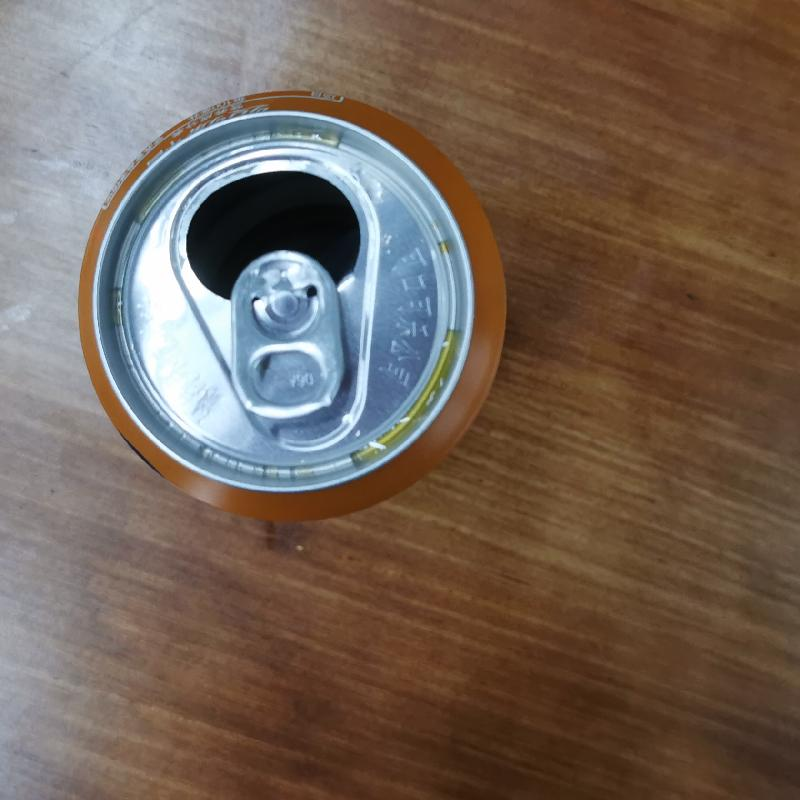cans: (68, 86, 509, 521)
